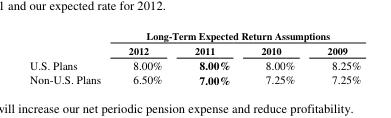table: (29, 28, 360, 87)
table column: (29, 28, 114, 87), (177, 28, 245, 87), (245, 28, 310, 87), (114, 28, 177, 87), (310, 28, 360, 87)
table column header: (29, 28, 360, 57)
table row: (29, 28, 360, 43), (29, 57, 360, 72), (29, 72, 360, 87), (29, 43, 360, 57)
table spanning cell: (114, 28, 360, 43)
